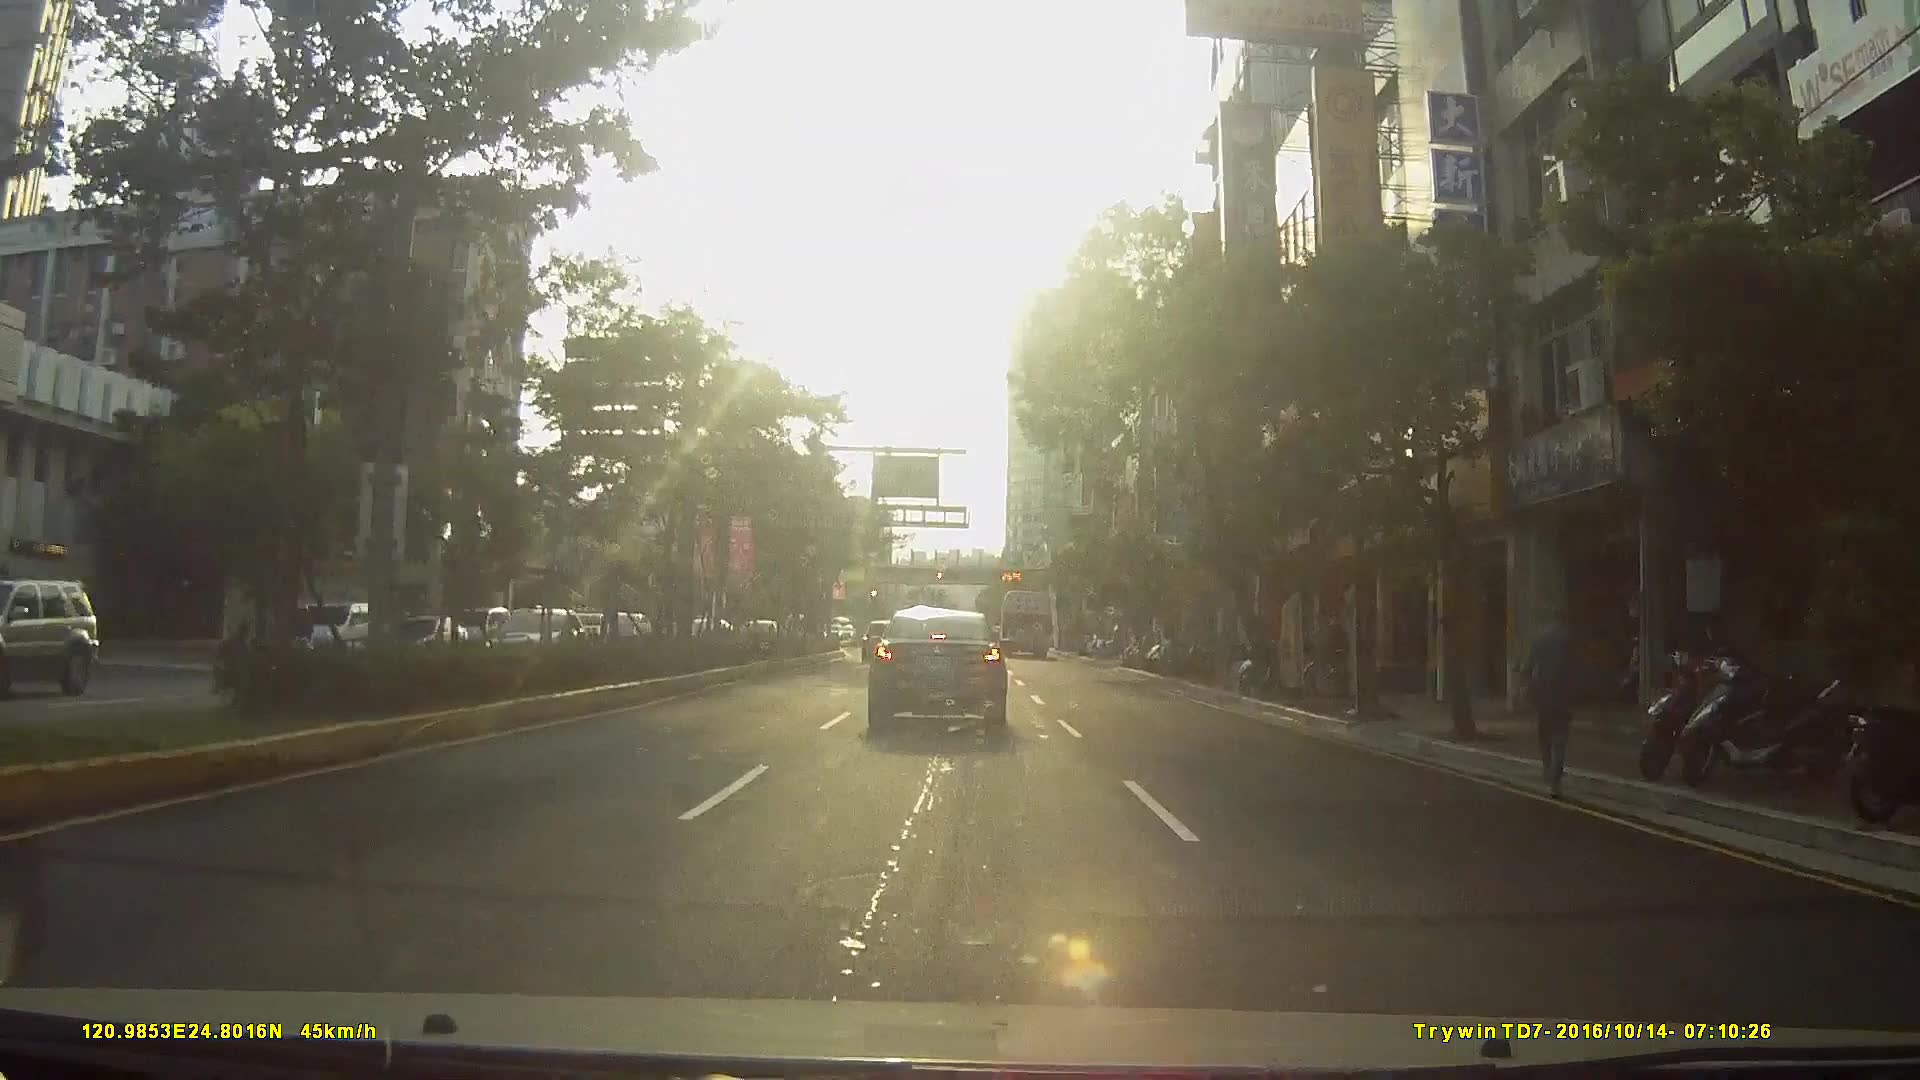pedestrian: (1529, 605, 1591, 797)
vehicle: (865, 609, 1008, 732), (1, 575, 107, 713), (284, 602, 383, 665), (996, 592, 1054, 660), (860, 622, 899, 663)
